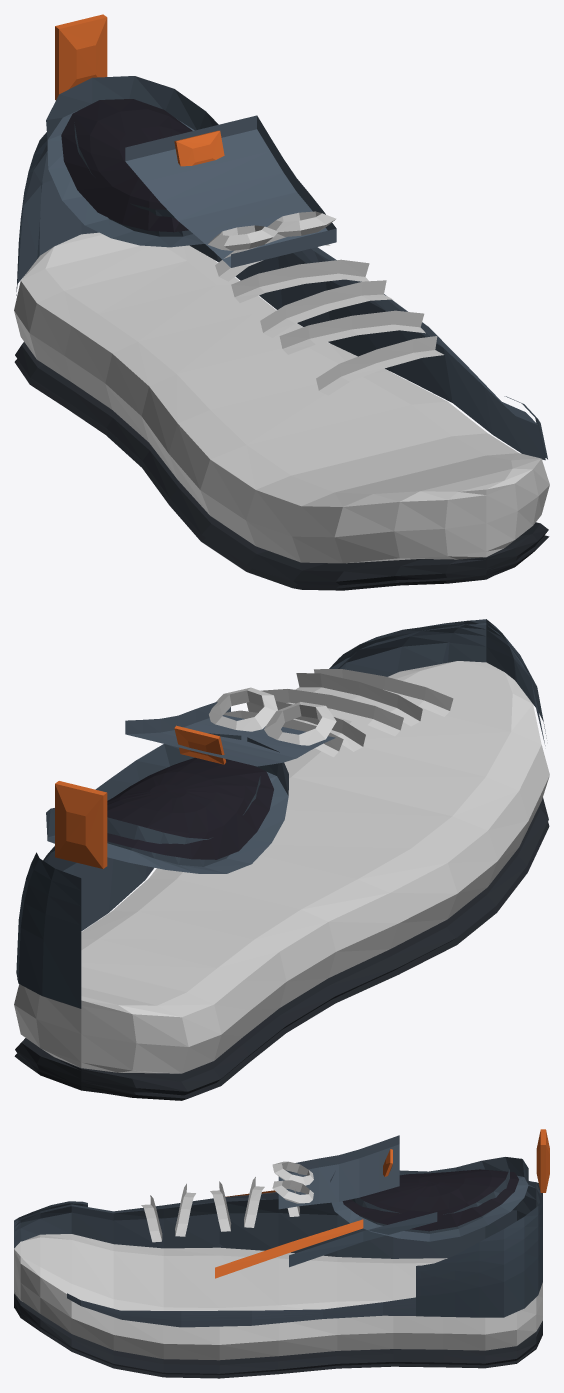
The model's file is street_runner.glb.
The picture shows the model from 3 angles, top to bottom: view 1: azimuth 30°, elevation 25°; view 2: azimuth 150°, elevation 25°; view 3: azimuth 270°, elevation 25°; orthographic projection. The views are drawn at different scales.
Size of the model in its own units: 0.1171 by 0.1355 by 0.3235.
